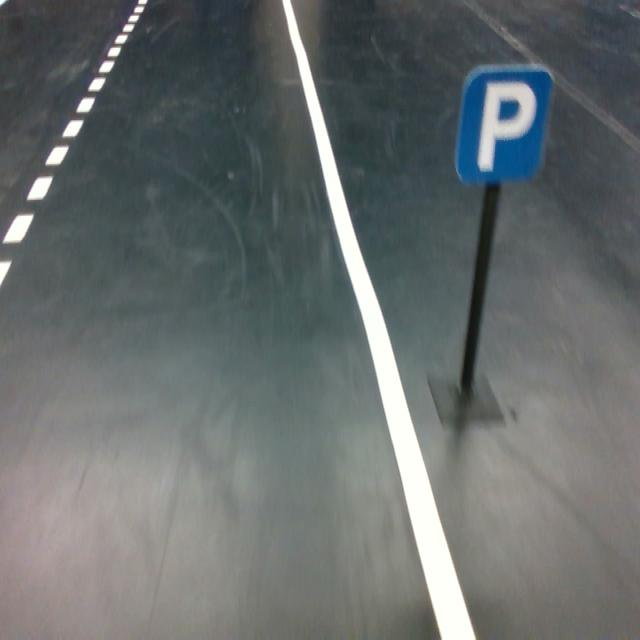parking-sign: (454, 63, 552, 186)
